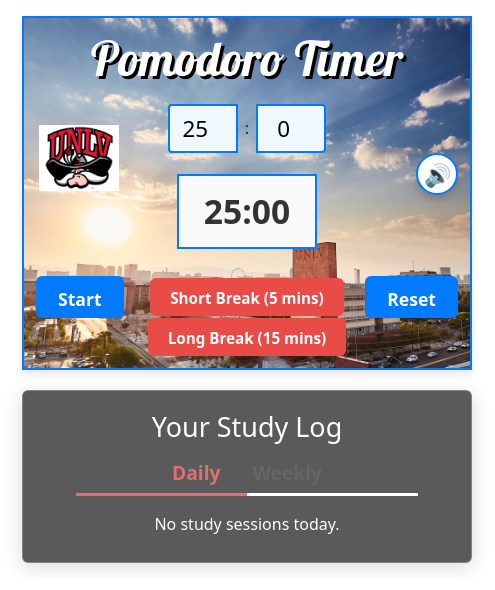
PomodoroTimer › input edge cases (negative, over max, invalid)
Replace the text in the 1st number field with "-5" at coordinates (203, 128), box left=168, top=104, right=238, bottom=153
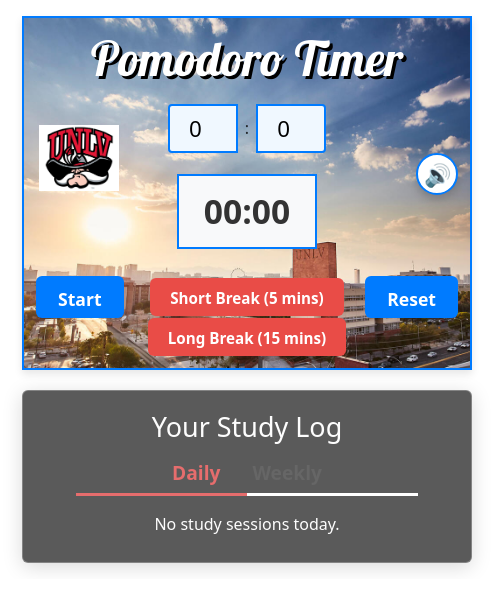
Result: the 1st number field holds "0" at left=168, top=104, right=238, bottom=153
Replace the text in the 2nd number field with "100" at coordinates (291, 128), box left=256, top=104, right=326, bottom=153
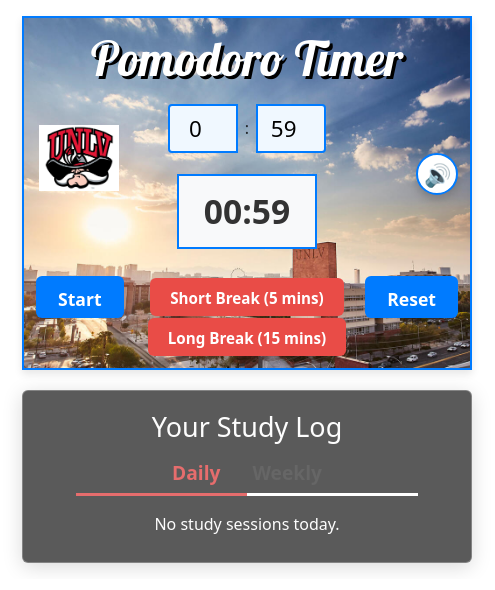
Result: the 2nd number field holds "59"
Replace the text in the 2nd number field with "abc" at coordinates (291, 128), box left=256, top=104, right=326, bottom=153
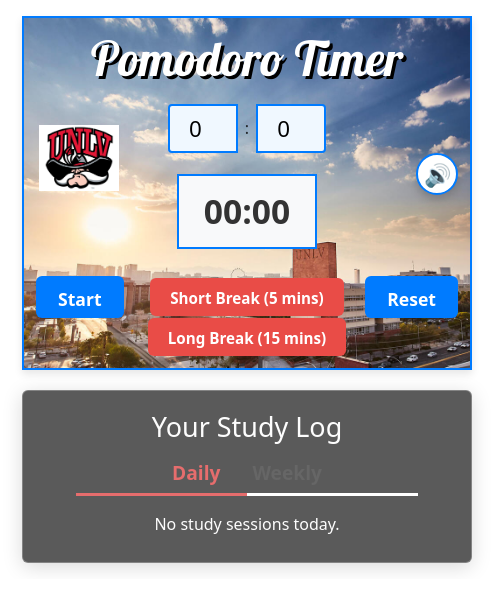
Result: the 2nd number field holds "0" at left=256, top=104, right=326, bottom=153
